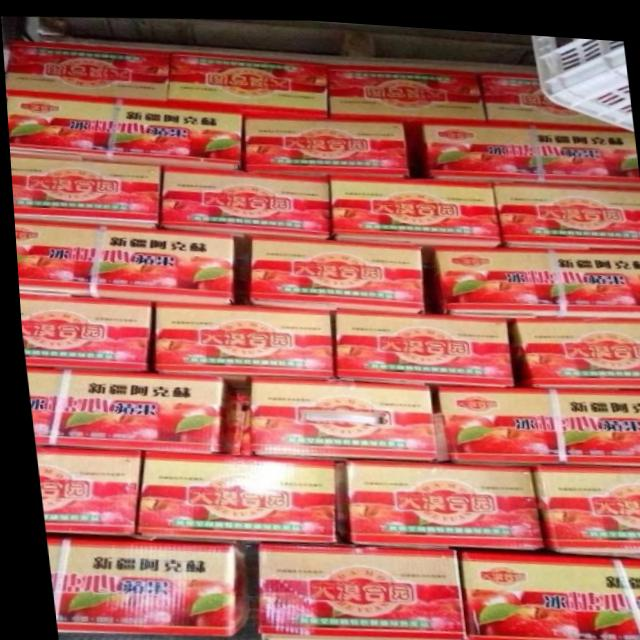box: (247, 540, 463, 640), (11, 214, 237, 301), (125, 447, 336, 540), (47, 535, 241, 635), (453, 540, 640, 640), (336, 452, 539, 542), (25, 363, 230, 451), (5, 90, 238, 163), (434, 380, 640, 456), (423, 238, 640, 310), (245, 373, 432, 453), (324, 163, 503, 242), (145, 298, 333, 373), (156, 155, 329, 233), (244, 232, 422, 306), (420, 111, 637, 171), (330, 305, 507, 377), (8, 147, 159, 224), (239, 102, 403, 170), (487, 167, 640, 238), (498, 304, 640, 380), (16, 290, 155, 367), (520, 456, 640, 544), (4, 39, 173, 98), (39, 442, 144, 536), (167, 48, 328, 108), (483, 63, 632, 122), (326, 57, 485, 111)
